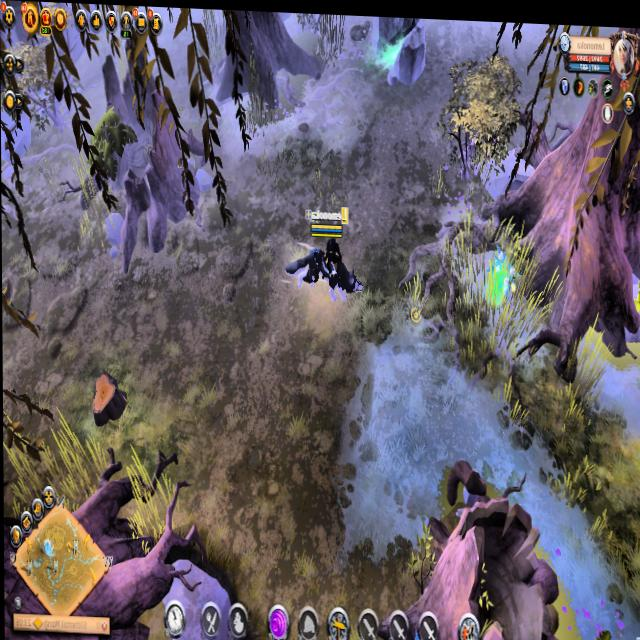fiber tier 4: (485, 242, 518, 301)
